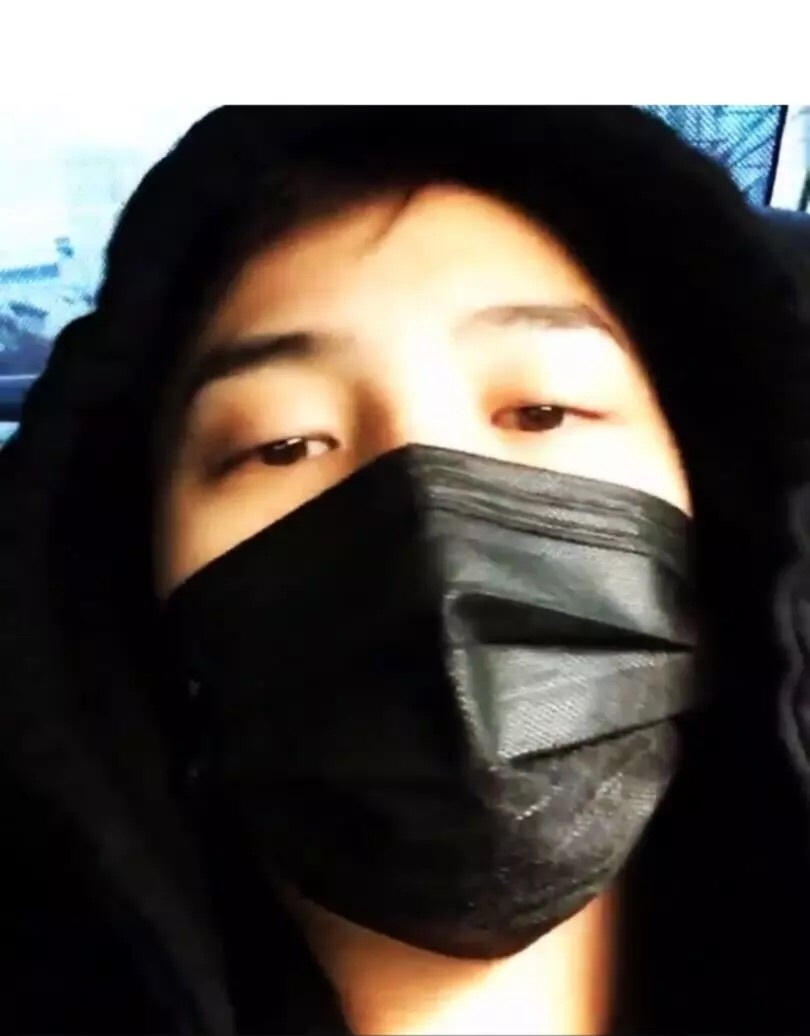face_mask: (169, 183, 697, 903)
